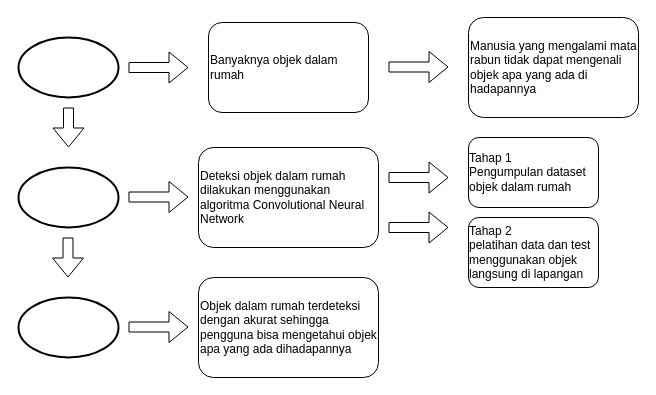
The diagram is 656 pixels wide and 395 high, and some of its shapes have lost their labels. The shapes that lost their labels are listed below. From the top down, each one's centre as x and y in pixels, then its label:
point (68, 67): Kondisi Awal
point (68, 197): Usulan model
point (68, 327): Kondisi Akhir
